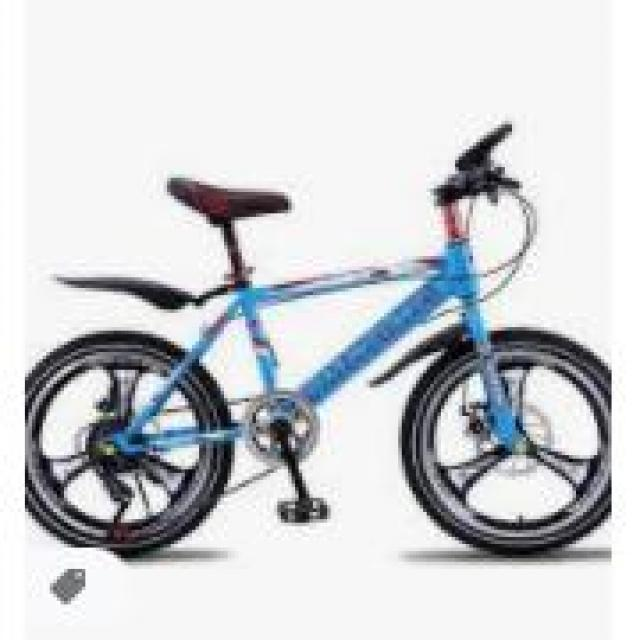bicycle: (8, 140, 616, 570)
